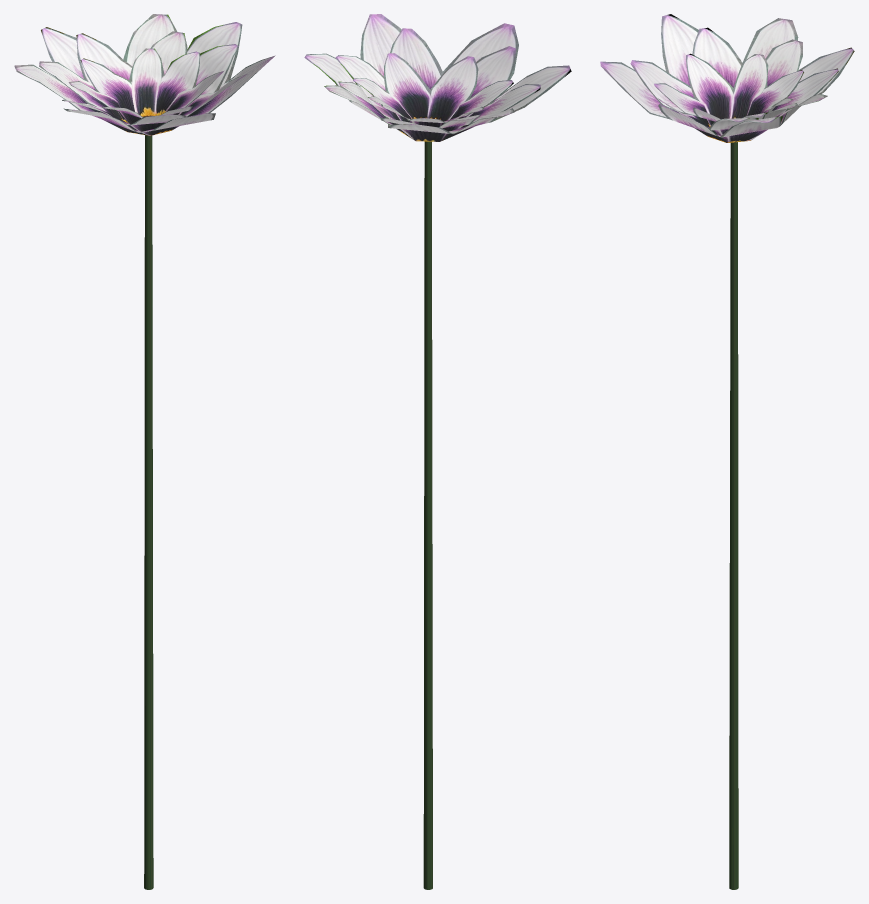
File: pond_lotus02.glb
3 views of the same model, side by side, from view 1: azimuth 30°, elevation 25°; view 2: azimuth 150°, elevation 25°; view 3: azimuth 270°, elevation 25° (orthographic).
Visible parts, largest first — view 1: lotus_02_Plants_0; view 2: lotus_02_Plants_0; view 3: lotus_02_Plants_0.
Part boxes in pixels (<box>): lotus_02_Plants_0: <box>14,14,275,889</box>; lotus_02_Plants_0: <box>304,14,571,889</box>; lotus_02_Plants_0: <box>600,14,854,889</box>.
Bounding box in the file's own units: 0.374 × 1.35 × 0.3767.
Materials: 1 (1 with a texture image).
